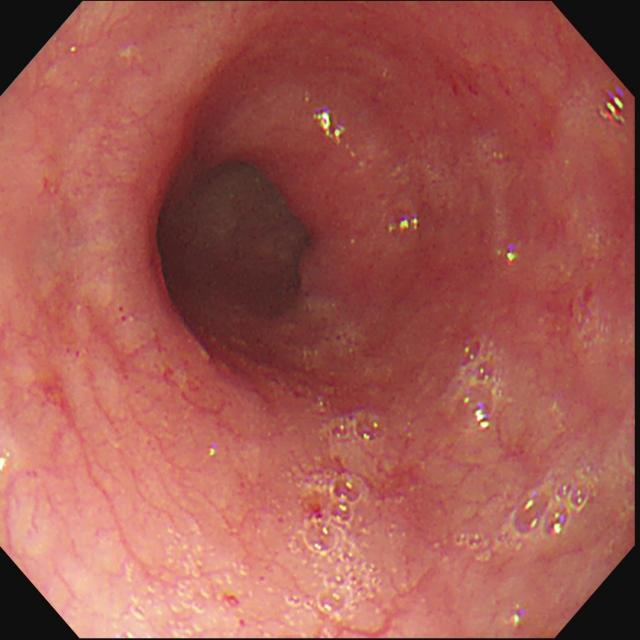E: (149, 150, 323, 340)
T: (286, 401, 394, 635), (115, 531, 249, 640), (511, 467, 602, 542), (449, 337, 508, 435), (454, 532, 510, 560)
U: (315, 111, 344, 144), (599, 96, 625, 127), (505, 250, 515, 265)
